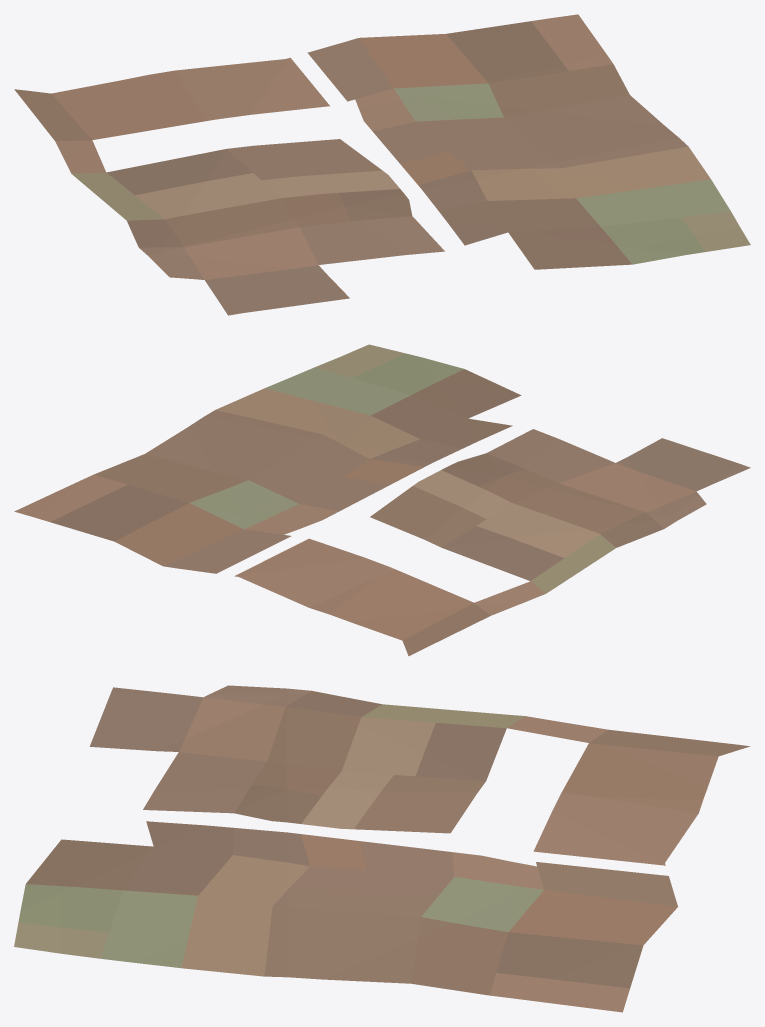
File: farm_24_36_soil.glb
3 views of the same model, one above another, from view 1: azimuth 30°, elevation 25°; view 2: azimuth 150°, elevation 25°; view 3: azimuth 270°, elevation 25° (orthographic). The views are drawn at different scales.
Visible parts, largest first — view 1: geometry_0; view 2: geometry_0; view 3: geometry_0.
Part boxes in pixels (box(x1,y1,x2,y2)): geometry_0: box(14, 14, 750, 315); geometry_0: box(14, 344, 750, 655); geometry_0: box(14, 685, 750, 1012).
Bounding box in the file's own units: 259 × 7.94 × 261.
